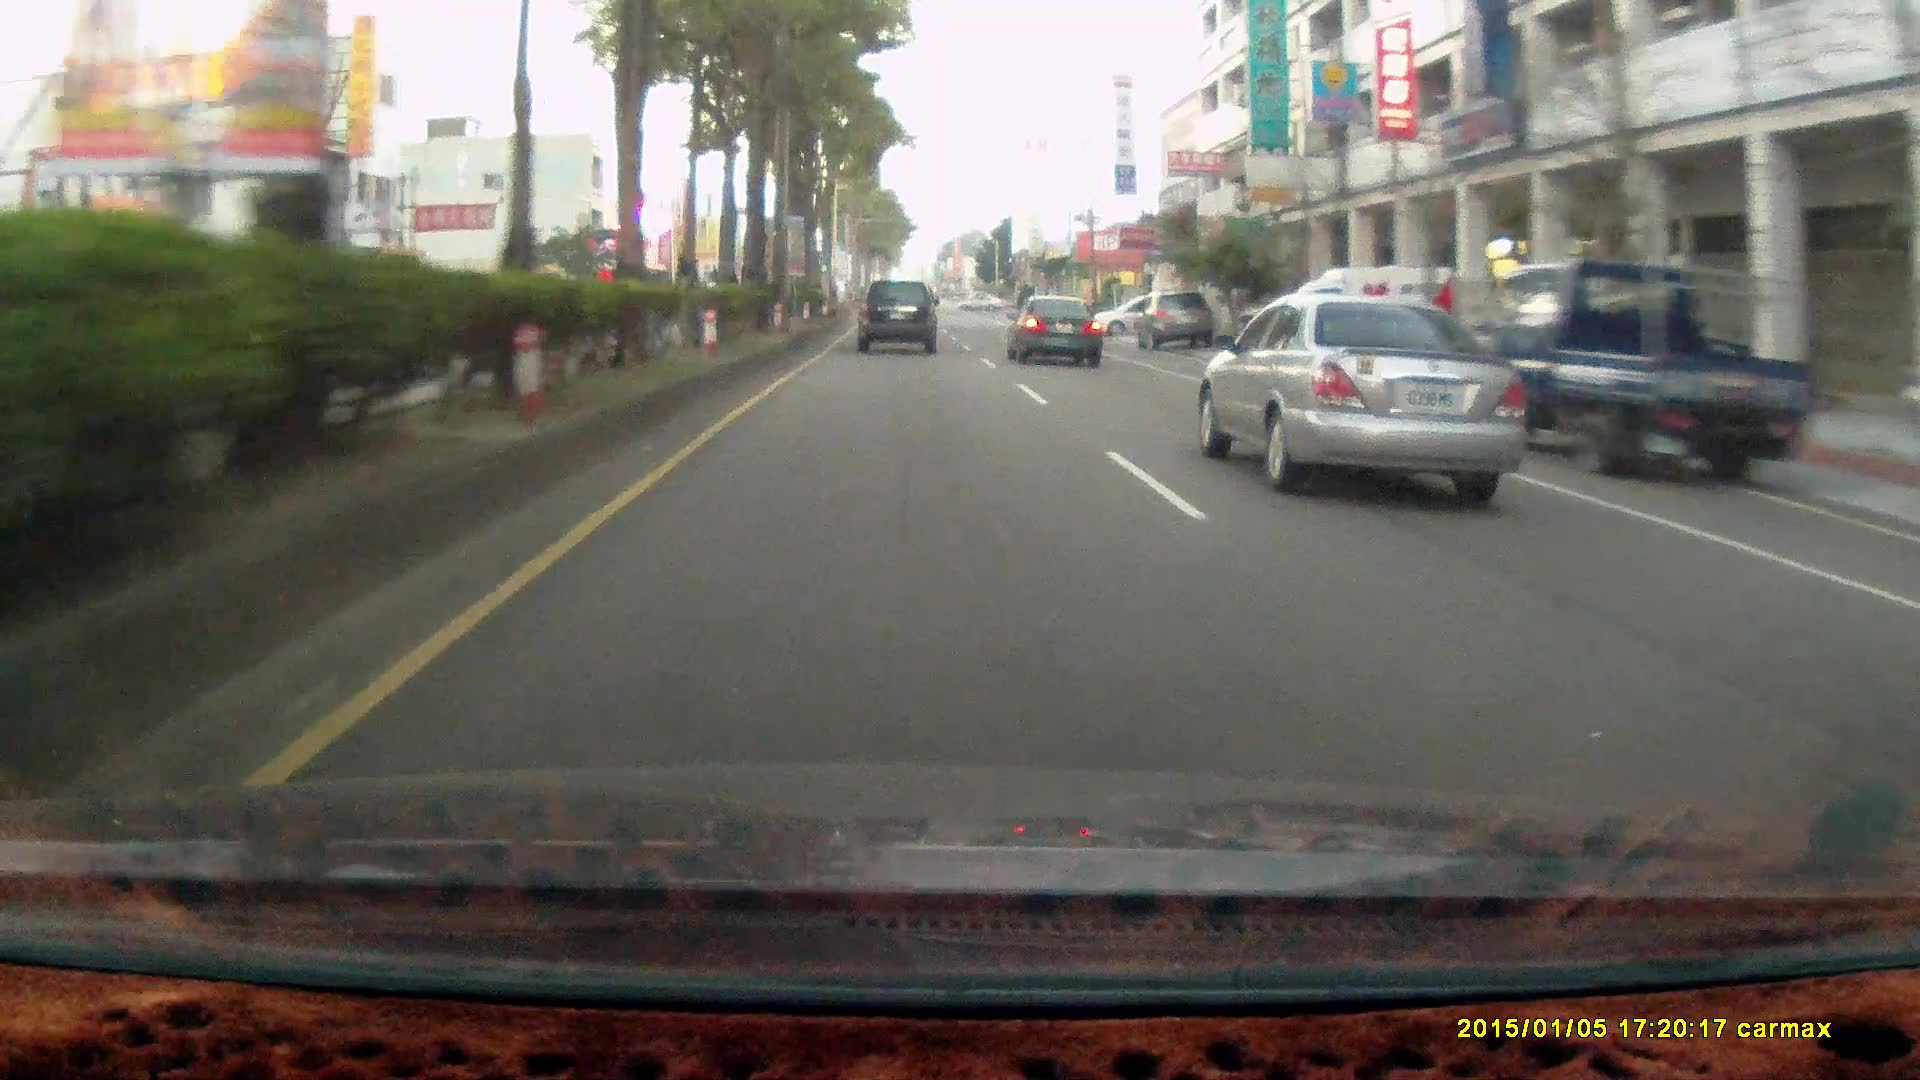vehicle: (1458, 258, 1817, 476), (1484, 258, 1818, 476), (1203, 289, 1531, 495), (1282, 262, 1462, 382), (1004, 295, 1106, 369), (1006, 291, 1101, 364), (857, 284, 943, 361), (856, 278, 938, 353), (1139, 290, 1217, 353)
